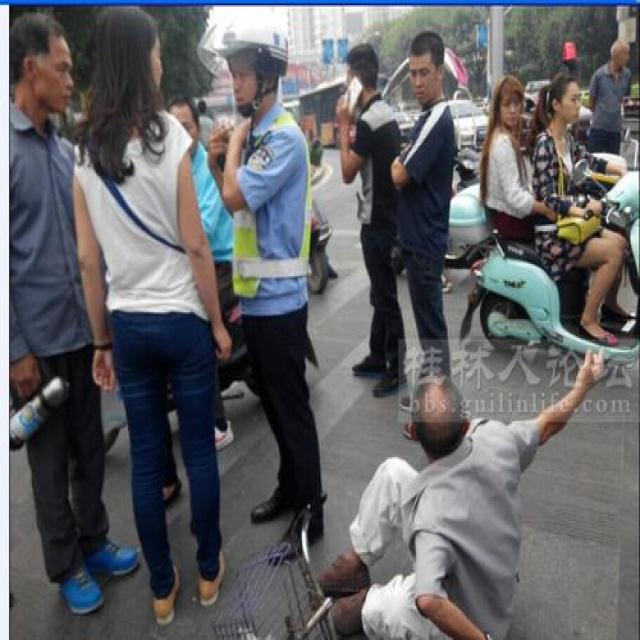10-: (8, 0, 636, 635)
down: (302, 336, 612, 638)
